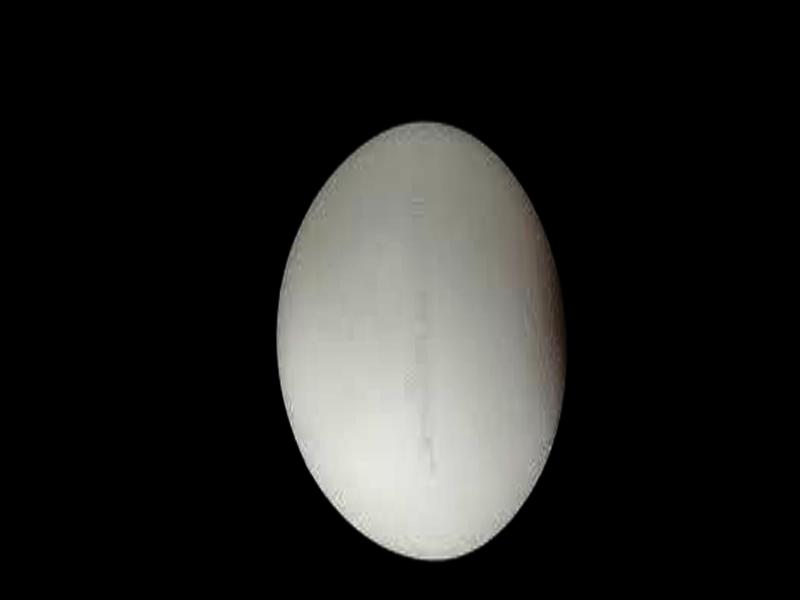Eggs: (272, 119, 573, 566)
